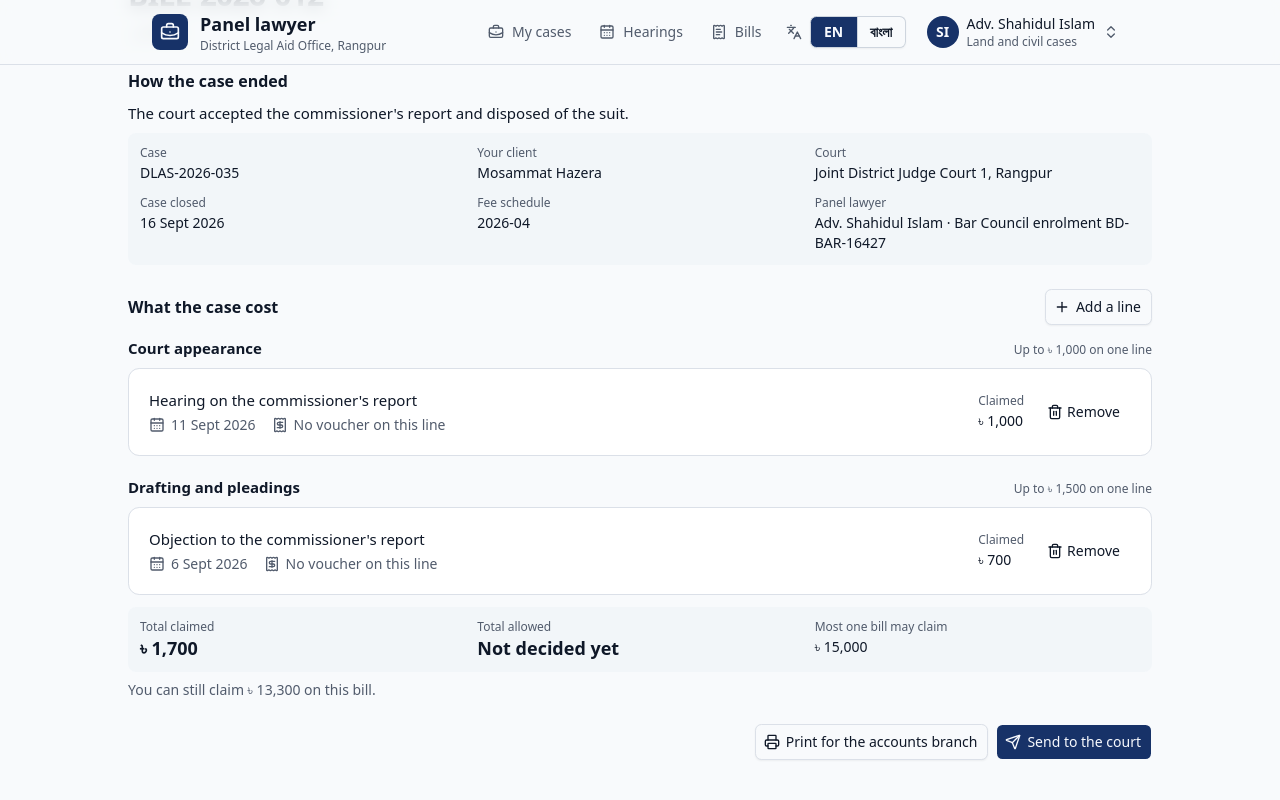
Test: sending a bill to the court › sends the draft and then shows it as read-only
(page scrolled)
Click the button "Send to the court" at x=1074, y=742, box [996, 724, 1152, 760]
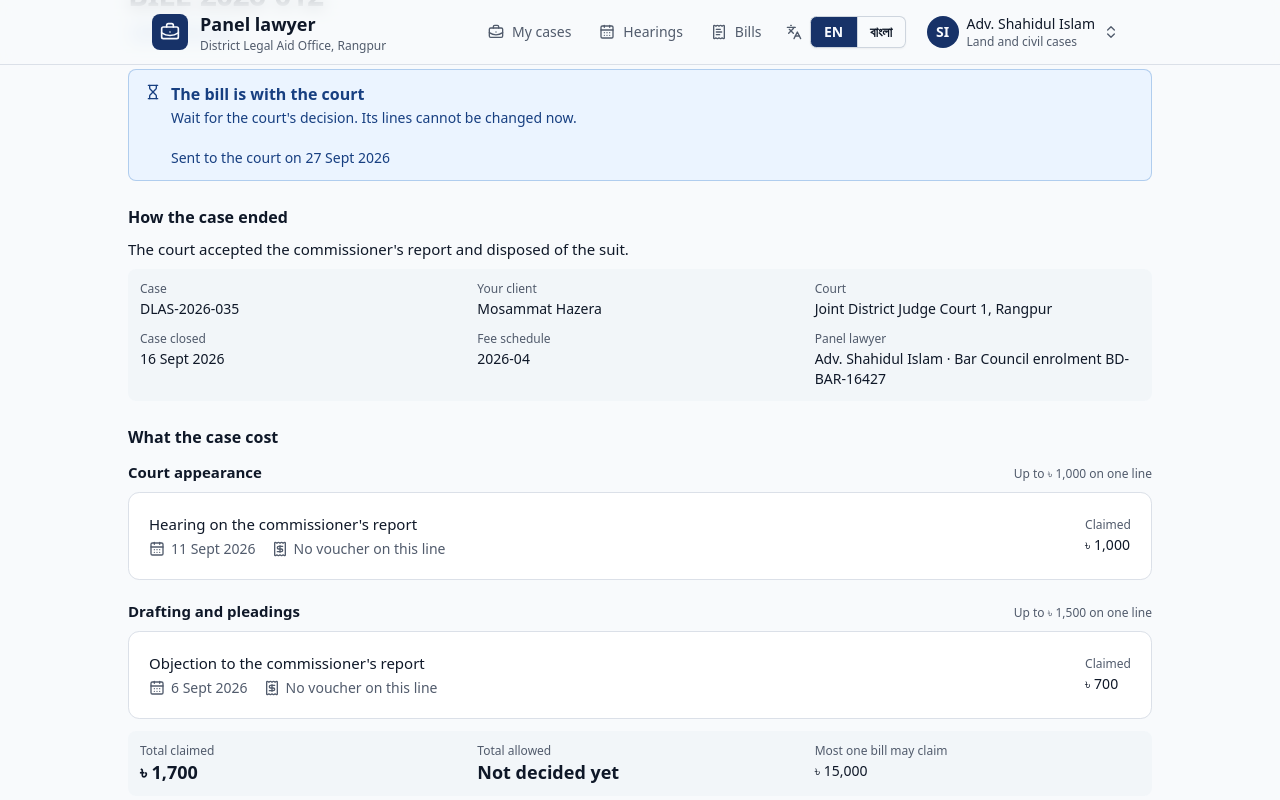
expect the text "The bill is with the court" is shown: met, box [171, 83, 364, 105]
expect the text "Wait for the court's decision. Its lines cannot be changed now." is shown: met, box [171, 108, 577, 127]
expect the button "Add a line" is gone: met
